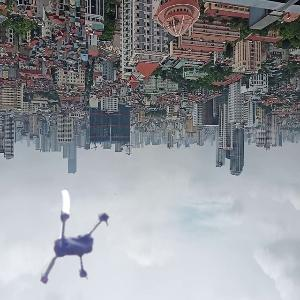drone: (16, 177, 133, 294)
